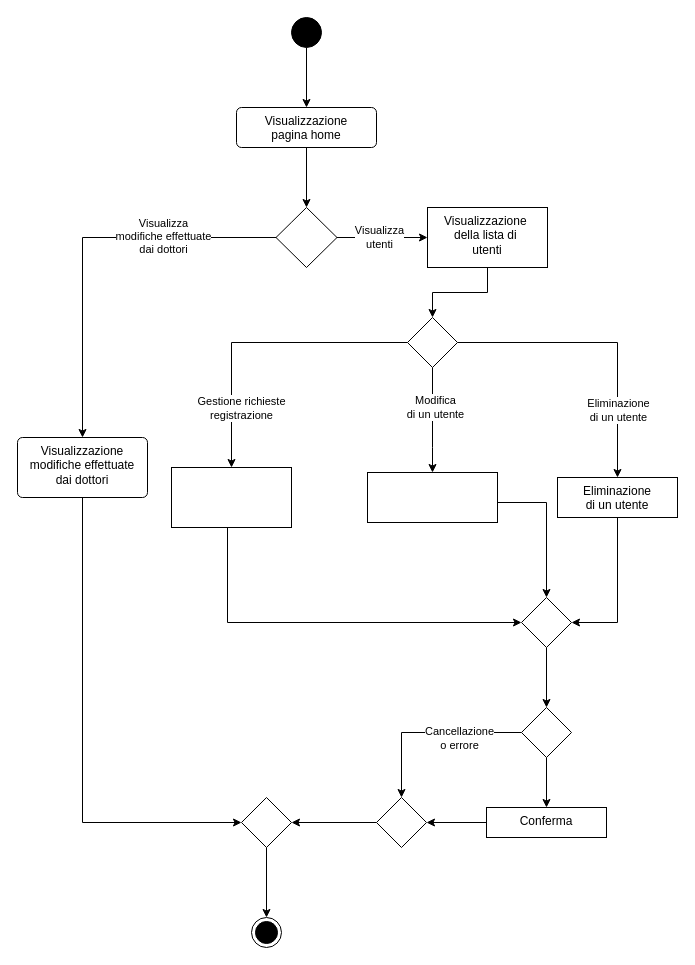
Some shapes in this 695 by 965 pixel diagram are drawn without their labels. The centre of each missing label's shape, as x and y in pixels:
"Accettazione di una richiesta di registrazione" goes at (231,497).
"Selezione dell'utente da modificare i dati" goes at (432,497).
